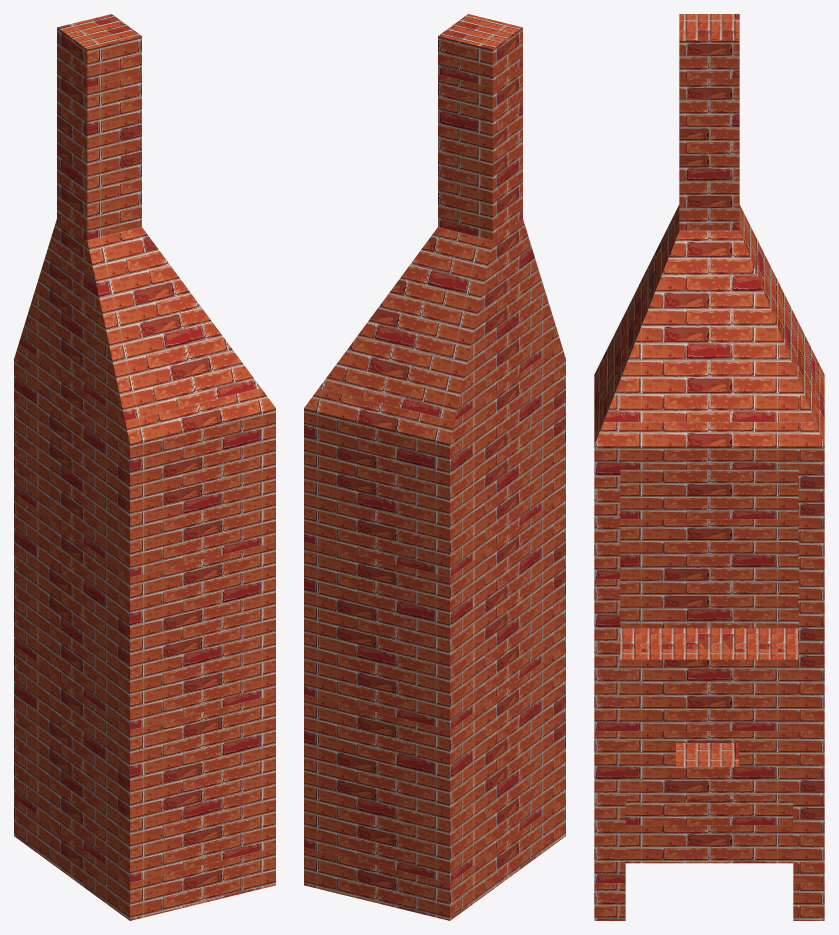
The model's file is outside_owen_1.glb.
3 views of the same model, side by side, from view 1: azimuth 30°, elevation 25°; view 2: azimuth 150°, elevation 25°; view 3: azimuth 270°, elevation 25° (orthographic).
Visible parts, largest first — view 1: Box001; view 2: Box001; view 3: Box001.
Boxes of the visible parts, bbox=[...] form: Box001: bbox=[14, 14, 275, 920]; Box001: bbox=[304, 14, 565, 920]; Box001: bbox=[594, 14, 824, 920].
Size of what is drawn, in the model's own units: 160 by 880 by 220.
Materials: 1 (1 with a texture image).
